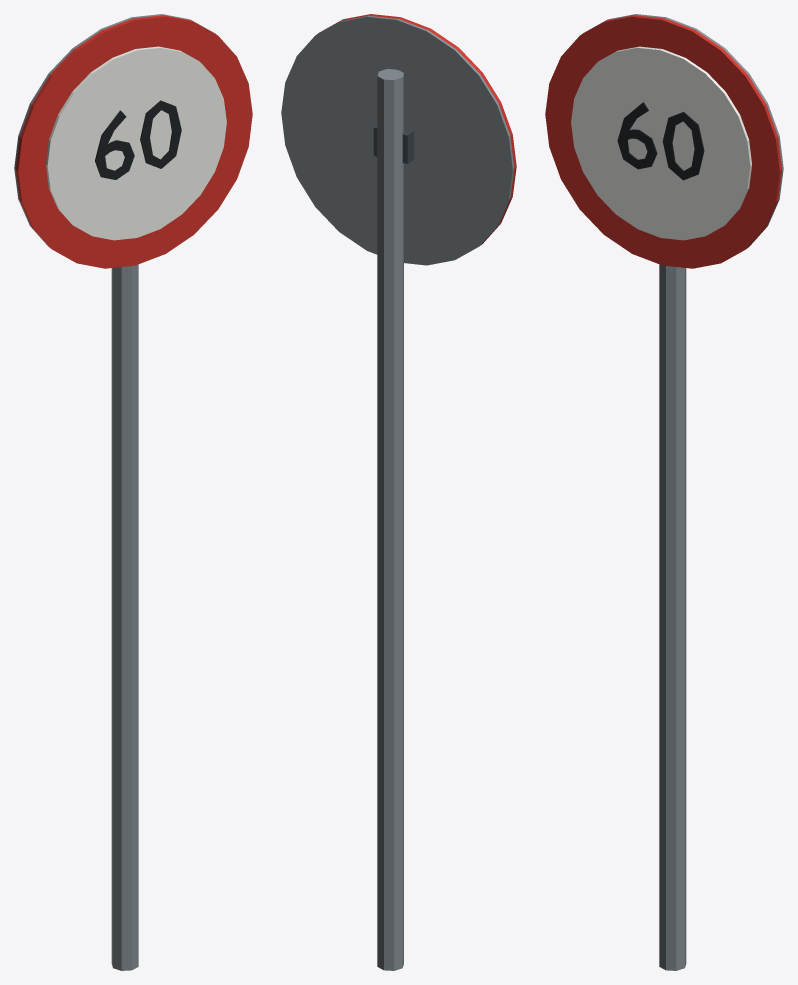
File: SpeedSign_60.fbx
The picture shows the model from 3 angles, left to right: view 1: azimuth 30°, elevation 25°; view 2: azimuth 150°, elevation 25°; view 3: azimuth 330°, elevation 25°; orthographic projection.
Parts seen in each view (by area): view 1: SpeedSign_60; view 2: SpeedSign_60; view 3: SpeedSign_60.
Part boxes in pixels (left/top/right/bottom): SpeedSign_60: left=14, top=14, right=252, bottom=970; SpeedSign_60: left=281, top=14, right=516, bottom=970; SpeedSign_60: left=545, top=14, right=783, bottom=970.
Bounding box in the file's own units: 0.68 × 2.64 × 0.1.
